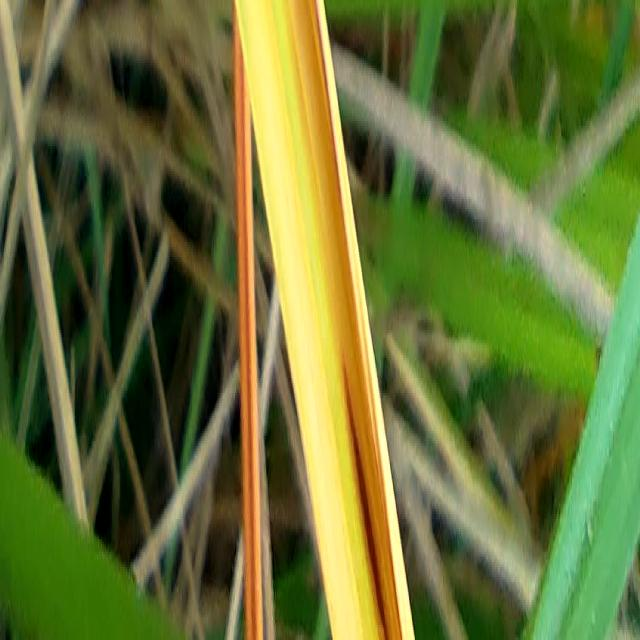NBS: (342, 365, 389, 640)
